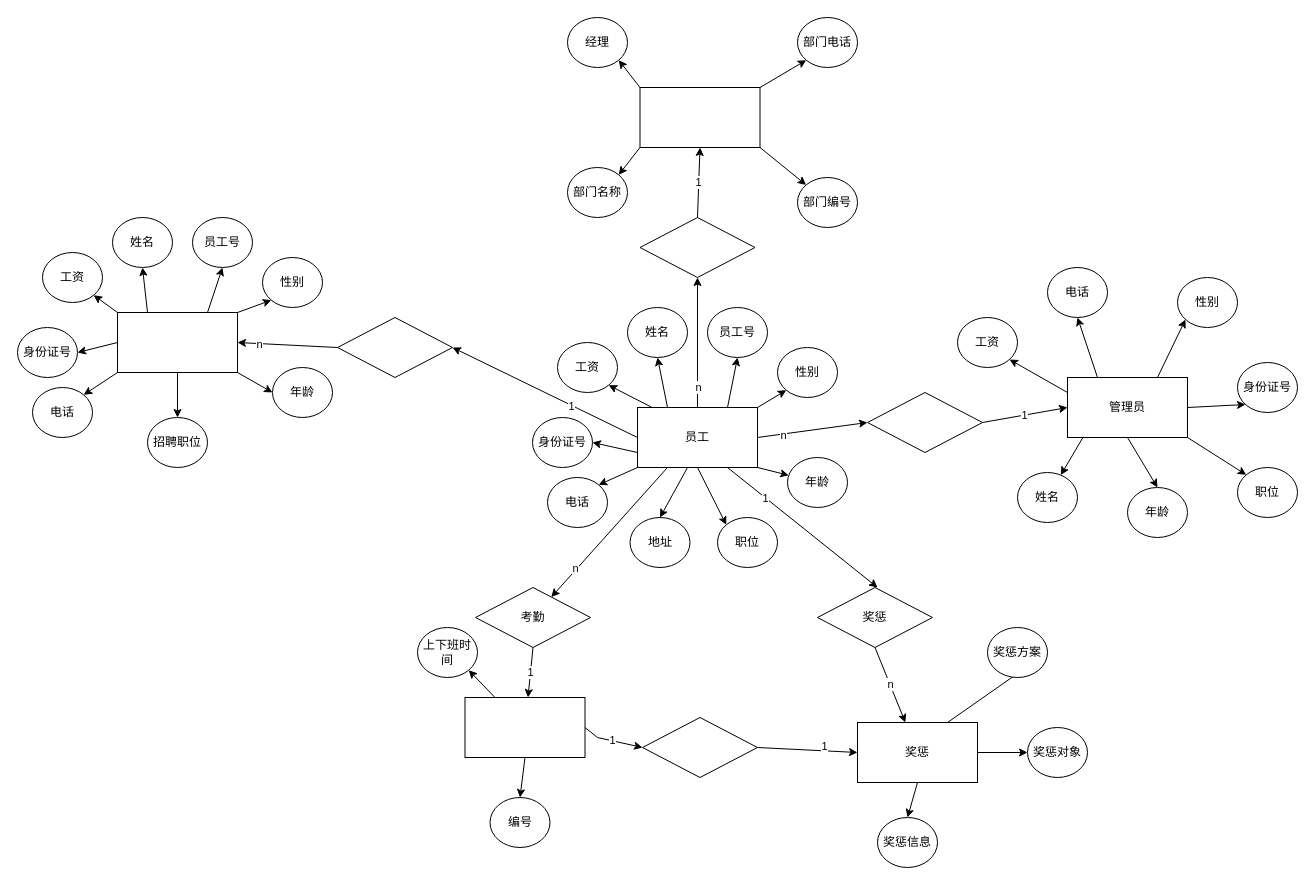
Image size: 1315x885. Some labels were removed from this diagram. The shapes that lost their labels are listed below. From the top down, each one's centre as x and y in pixels, then its label:
At (x=699, y=117): "部门".
At (x=697, y=247): "属于".
At (x=177, y=342): "HR".
At (x=394, y=347): "招聘".
At (x=924, y=422): "管理".
At (x=524, y=727): "考勤系统".
At (x=700, y=747): "决定".
